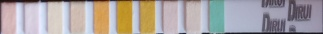color 1: (2, 4, 15, 32)
color 10: (210, 2, 222, 30)
color 2: (25, 4, 37, 32)
color 3: (48, 3, 61, 32)
color 4: (71, 3, 83, 32)
color 5: (95, 3, 107, 32)
color 6: (118, 3, 130, 32)
color 7: (141, 3, 153, 32)
color 8: (164, 3, 176, 32)
color 9: (187, 3, 198, 31)
